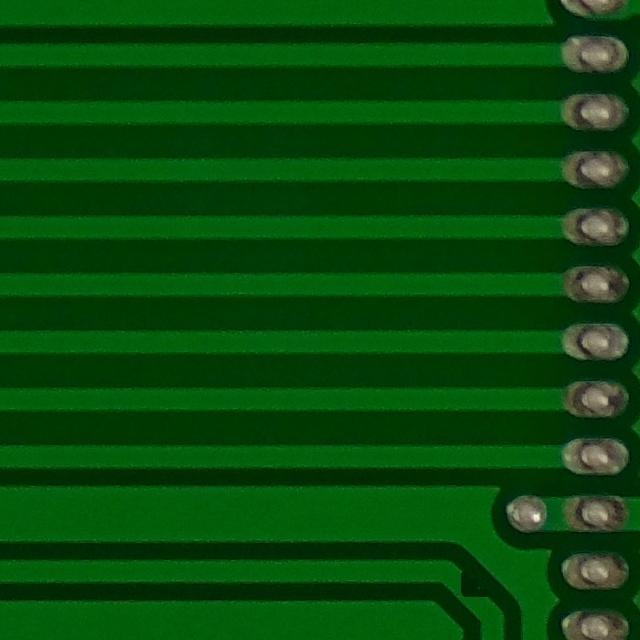mouse_bite: (438, 555, 505, 620)
